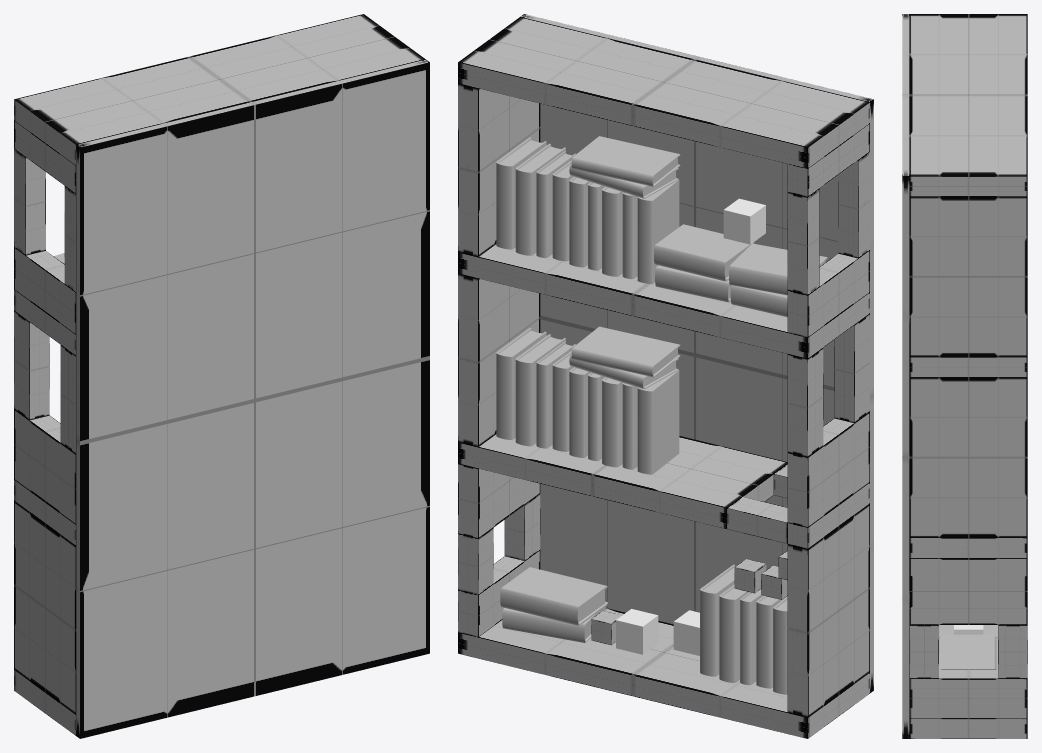
The model's file is BookShelf_Placeholder_1.fbx.
3 renders of one model, left to right at view 1: azimuth 30°, elevation 25°; view 2: azimuth 150°, elevation 25°; view 3: azimuth 270°, elevation 25°, orthographic. The views are drawn at different scales.
Visible parts, largest first — view 1: BookShelf_Back, BookShelf_Bottom__2__1, BookShelf_Part__4_, BookShelf_Part__9_, BookShelf_Part__8_, BookShelf_Part__6_, BookShelf_Part__11_, BookShelf_Part__7__1, BookShelf_Part__7_, BookShelf_Bottom__1_, BookShelf_Bottom, BookShelf_Bottom__1__1 (+1 smaller); view 2: BookShelf_Back, BookShelf_Bottom__2__1, BookShelf_Bottom, BookShelf_Bottom_1, BookShelf_Part__4_, BookShelf_Bottom__1__1, BookShelf_Part__5__1, BookShelf_Part__6__1, BookShelf_Part__9_, Book_Wide__4_, BookShelf_Part__6_, BookShelf_Part__5_ (+48 smaller); view 3: BookShelf_Bottom__2__1, BookShelf_Part__6__1, BookShelf_Part__5__1, BookShelf_Part__5_, BookShelf_Back, BookShelf_Part__1_, BookShelf_Bottom, BookShelf_Bottom__1__1, BookShelf_Bottom_1, Book_Wide__4_, BookShelf_Part__2_, BookShelf_Part__3_ (+1 smaller).
Part boxes in pixels (box(x1,y1,x2,y2)): BookShelf_Back: box(76, 59, 429, 738); BookShelf_Bottom__2__1: box(14, 14, 425, 165); BookShelf_Part__4_: box(14, 501, 76, 714); BookShelf_Part__9_: box(14, 409, 76, 524); BookShelf_Part__8_: box(14, 310, 49, 420); BookShelf_Part__6_: box(14, 247, 76, 334); BookShelf_Part__11_: box(14, 149, 45, 255); BookShelf_Part__7__1: box(14, 120, 76, 193); BookShelf_Part__7_: box(60, 345, 76, 454); BookShelf_Bottom__1_: box(14, 479, 76, 545); BookShelf_Bottom: box(14, 670, 76, 735); BookShelf_Bottom__1__1: box(14, 289, 76, 355); BookShelf_Back: box(520, 14, 873, 692); BookShelf_Bottom__2__1: box(458, 17, 869, 168); BookShelf_Bottom: box(458, 608, 869, 738); BookShelf_Bottom_1: box(458, 434, 787, 528); BookShelf_Part__4_: box(787, 503, 869, 717); BookShelf_Bottom__1__1: box(458, 244, 869, 358); BookShelf_Part__5__1: box(458, 273, 540, 447); BookShelf_Part__6__1: box(458, 83, 540, 256); BookShelf_Part__9_: box(787, 412, 869, 527); Book_Wide__4_: box(500, 567, 607, 625); BookShelf_Part__6_: box(787, 250, 869, 337); BookShelf_Part__5_: box(458, 463, 540, 538); BookShelf_Bottom__2__1: box(909, 14, 1027, 196); BookShelf_Part__6__1: box(909, 196, 1027, 357); BookShelf_Part__5__1: box(909, 377, 1027, 537); BookShelf_Part__5_: box(909, 558, 1027, 624); BookShelf_Back: box(902, 14, 909, 738); BookShelf_Part__1_: box(909, 669, 1027, 718); BookShelf_Bottom: box(909, 625, 1027, 738); BookShelf_Bottom__1__1: box(909, 357, 1027, 377); BookShelf_Bottom_1: box(909, 538, 1027, 557); Book_Wide__4_: box(940, 634, 996, 669); BookShelf_Part__2_: box(909, 625, 938, 678); BookShelf_Part__3_: box(998, 625, 1027, 678).
Size of the model in its own units: 2301 by 3717 by 752.
